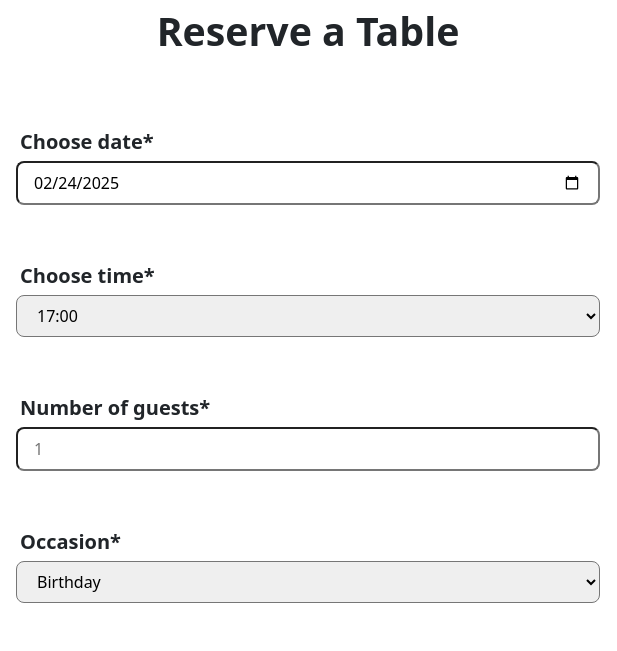
Test: Testing occasion input validation › Should show error message when the Occasion doesn't exist
Select "" in the dropdown labelled "Occasion*": (308, 582) [16,561,600,603]
Leave the dropdown labelled "Occasion*", box [16,561,600,603]
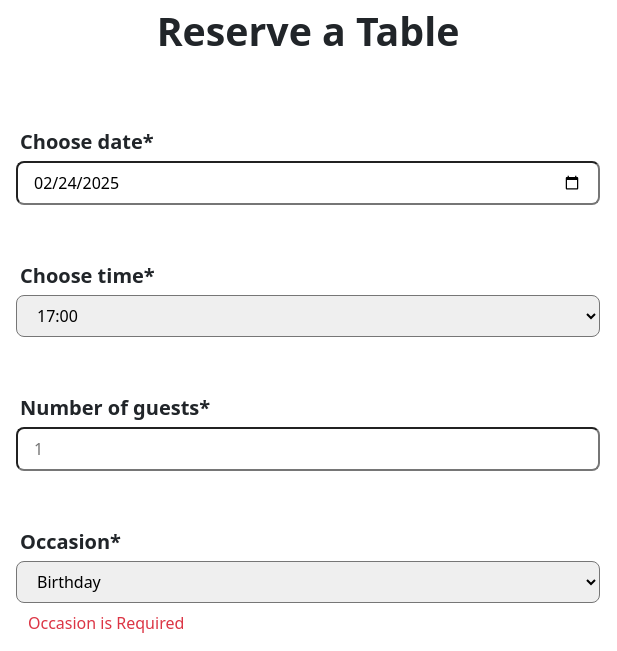
Expected: the text "Occasion is Required" is shown, [28,612,184,634]
